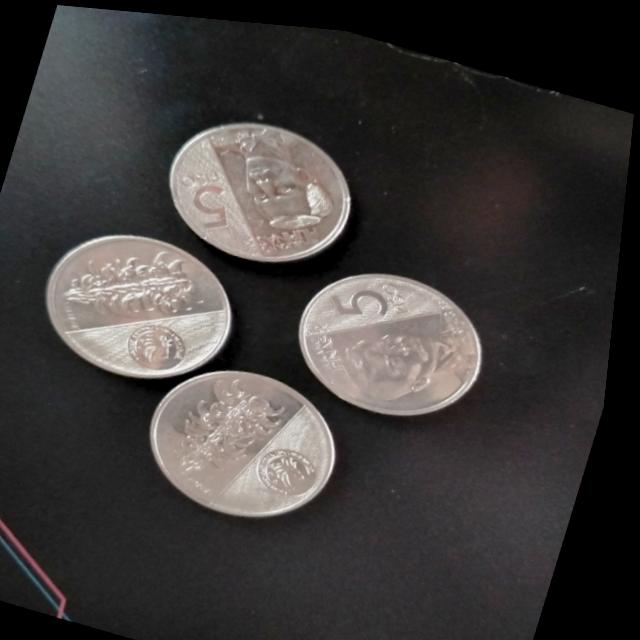5_New_Back: (154, 352, 304, 506), (55, 219, 214, 341)
5_New_Front: (324, 254, 427, 333), (166, 152, 247, 236)
